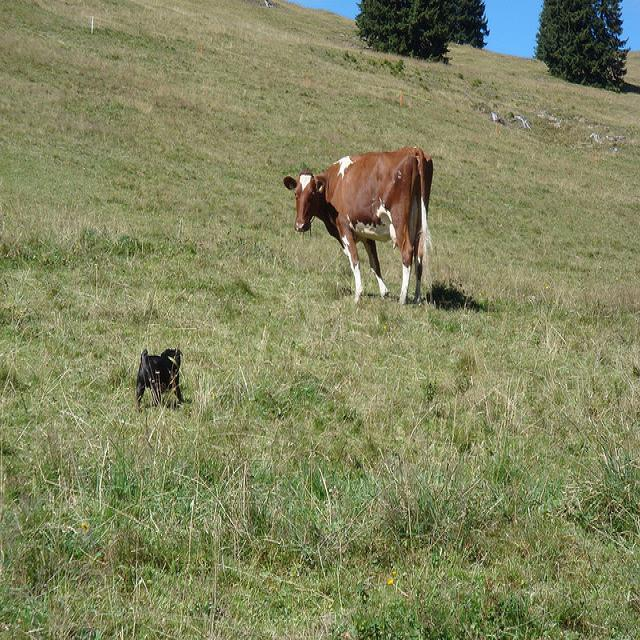cow: (279, 147, 432, 303)
